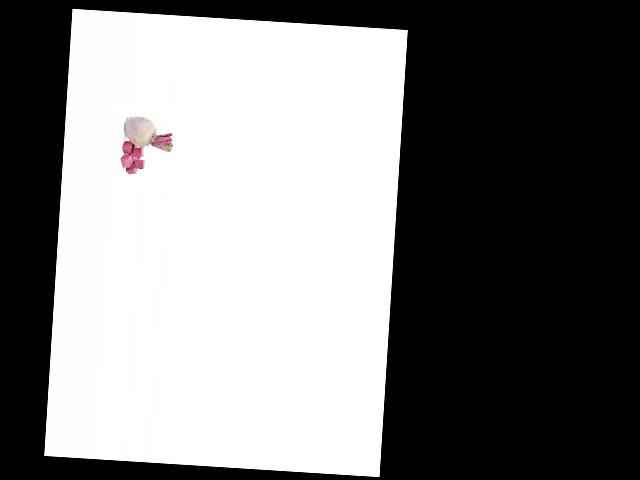beet: (122, 116, 173, 152)
